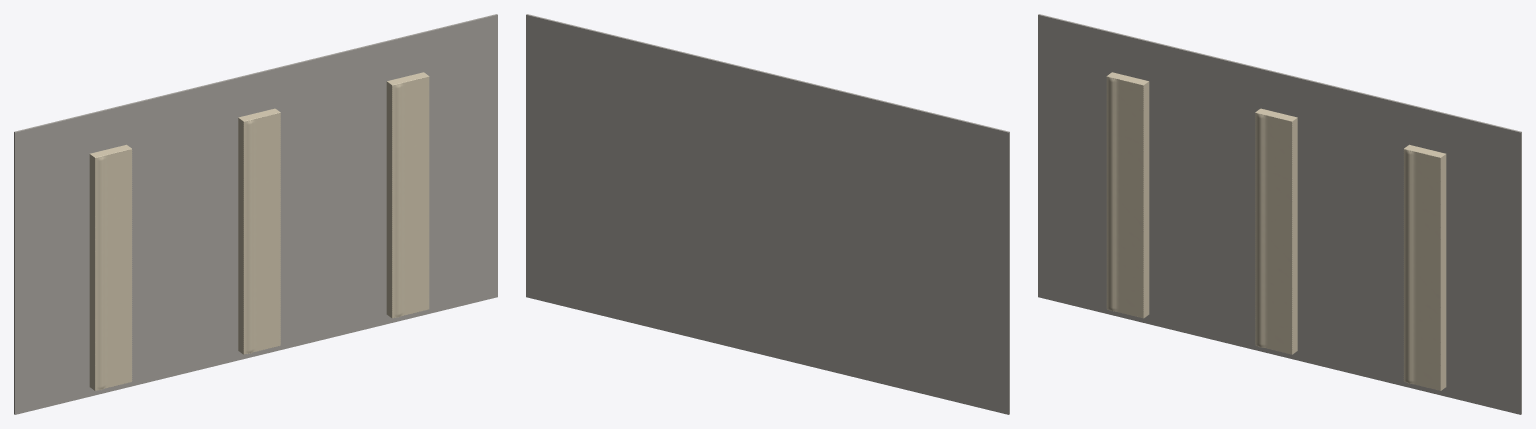
Rendered from terilgan.glb.
The picture shows the model from 3 angles, left to right: view 1: azimuth 30°, elevation 25°; view 2: azimuth 150°, elevation 25°; view 3: azimuth 330°, elevation 25°; orthographic projection.
Visible parts, largest first — view 1: Devor, t2, t0, t1; view 2: Devor; view 3: Devor, t0, t2, t1.
Boxes of the visible parts, x1=… form: Devor: x1=14, y1=14, x2=497, y2=414; t2: x1=386, y1=72, x2=429, y2=318; t0: x1=89, y1=144, x2=132, y2=390; t1: x1=238, y1=108, x2=280, y2=354; Devor: x1=526, y1=14, x2=1009, y2=414; Devor: x1=1038, y1=14, x2=1521, y2=414; t0: x1=1106, y1=72, x2=1149, y2=318; t2: x1=1403, y1=144, x2=1446, y2=390; t1: x1=1255, y1=108, x2=1297, y2=354.
Size of the model in its own units: 2.6 by 1.45 by 0.0713.
